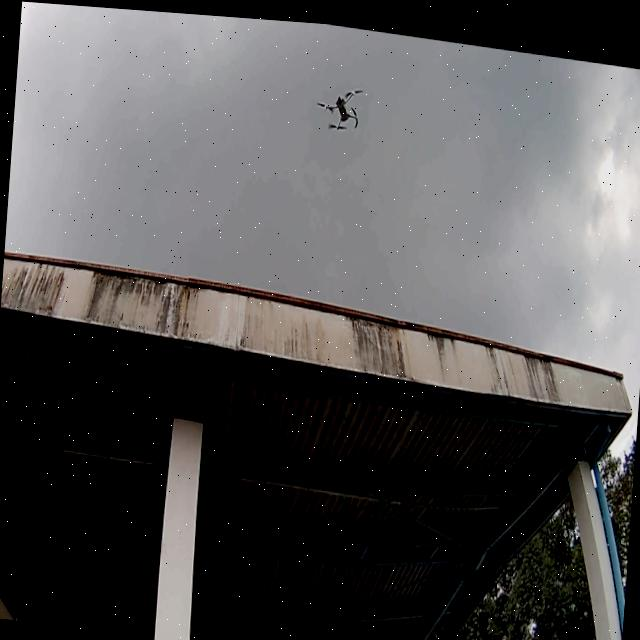drone: (314, 76, 363, 128)
